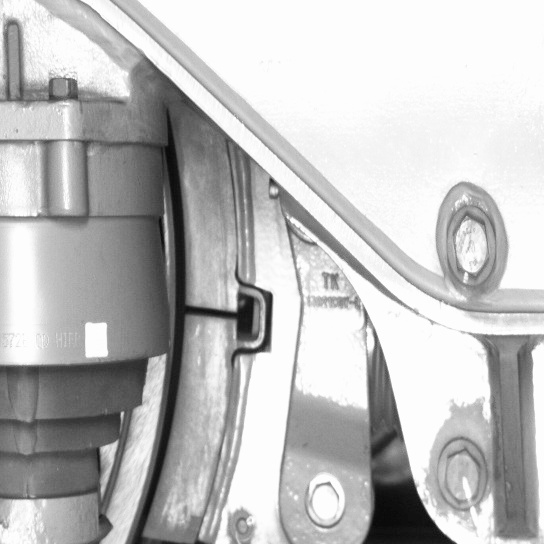KnifeSwitch: (123, 140, 256, 541)
